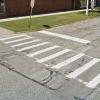chimneys: (30, 0, 35, 14)
crosswalks: (0, 31, 100, 88)
